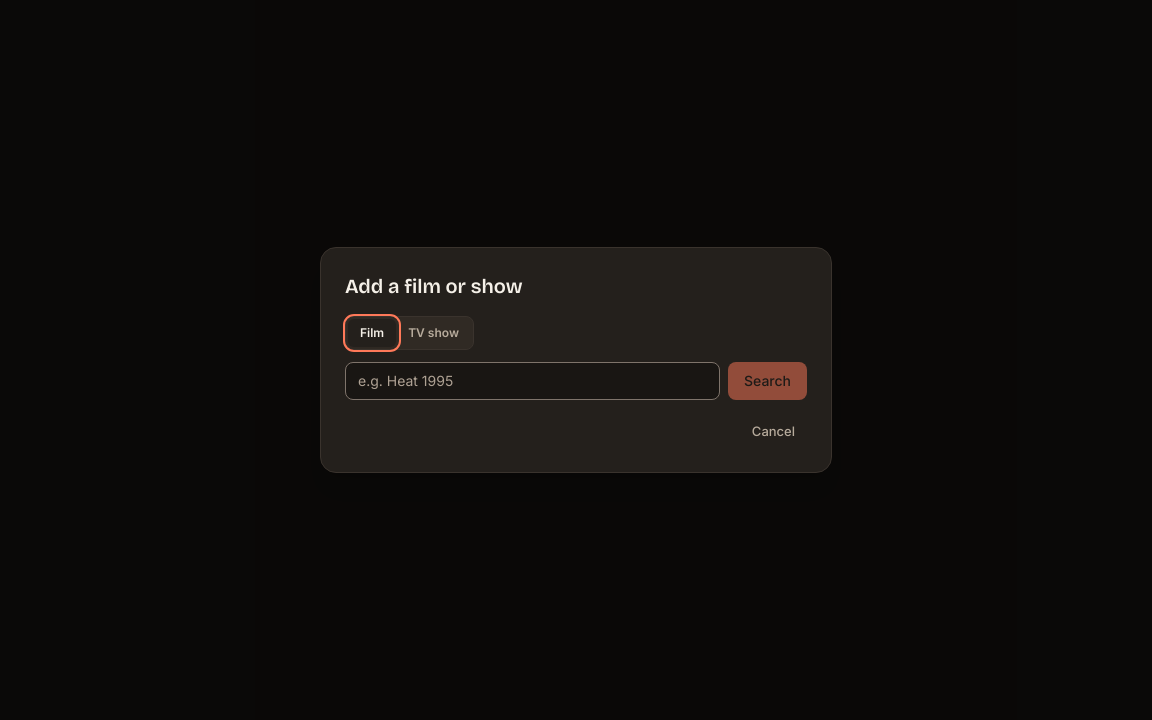
it: AddTitleModal › refuses a future watch date without a request
In the field named "Title": (532, 381) top-left (345, 362), bottom-right (720, 400), type "Heat"
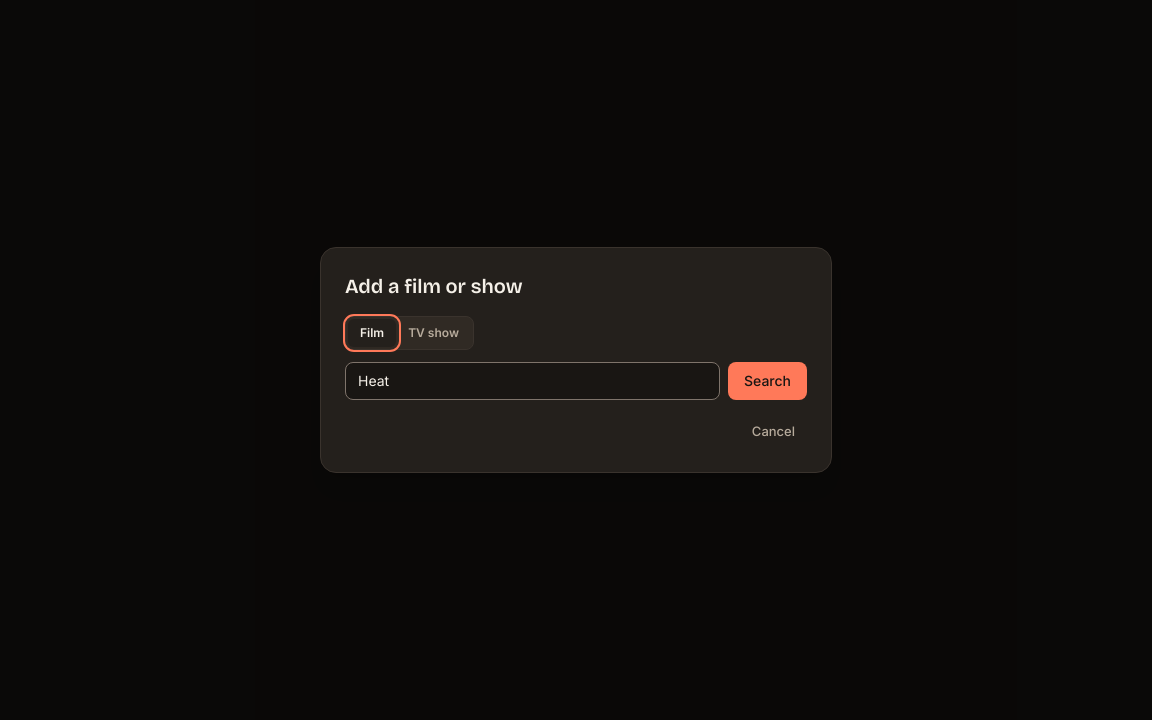
Click the button "Search": (768, 381) top-left (728, 362), bottom-right (807, 400)
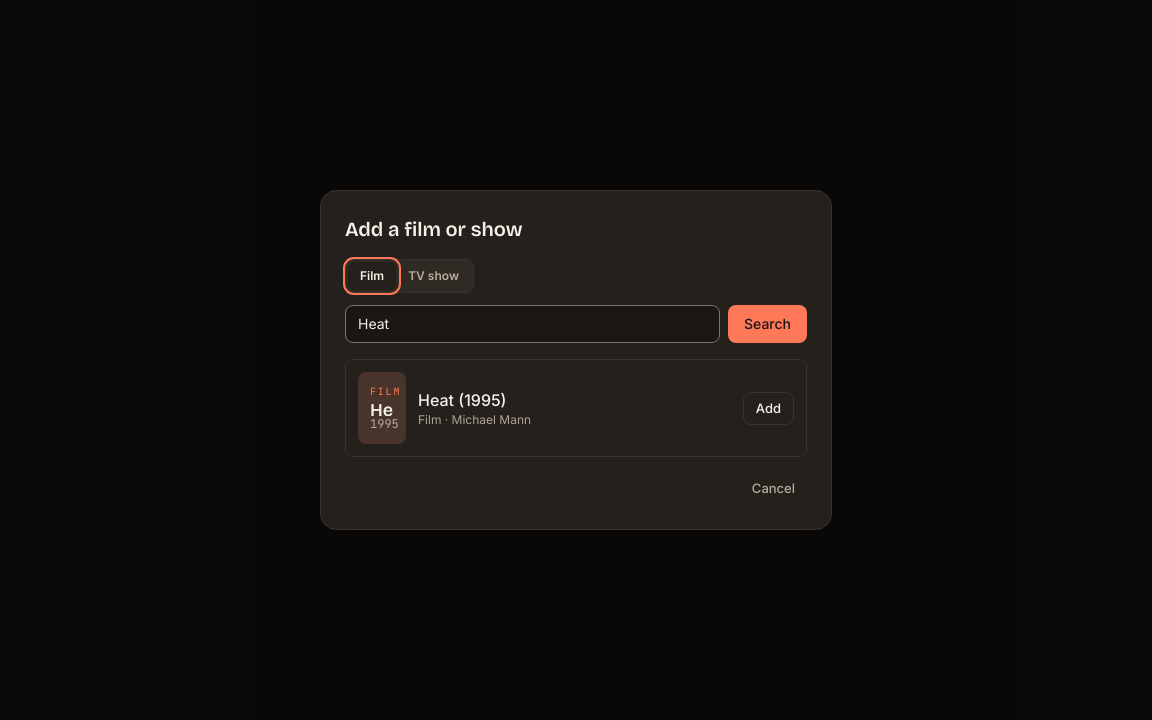
Click the button with aria-label "Add: Heat (1995)": (768, 408) top-left (743, 392), bottom-right (794, 425)
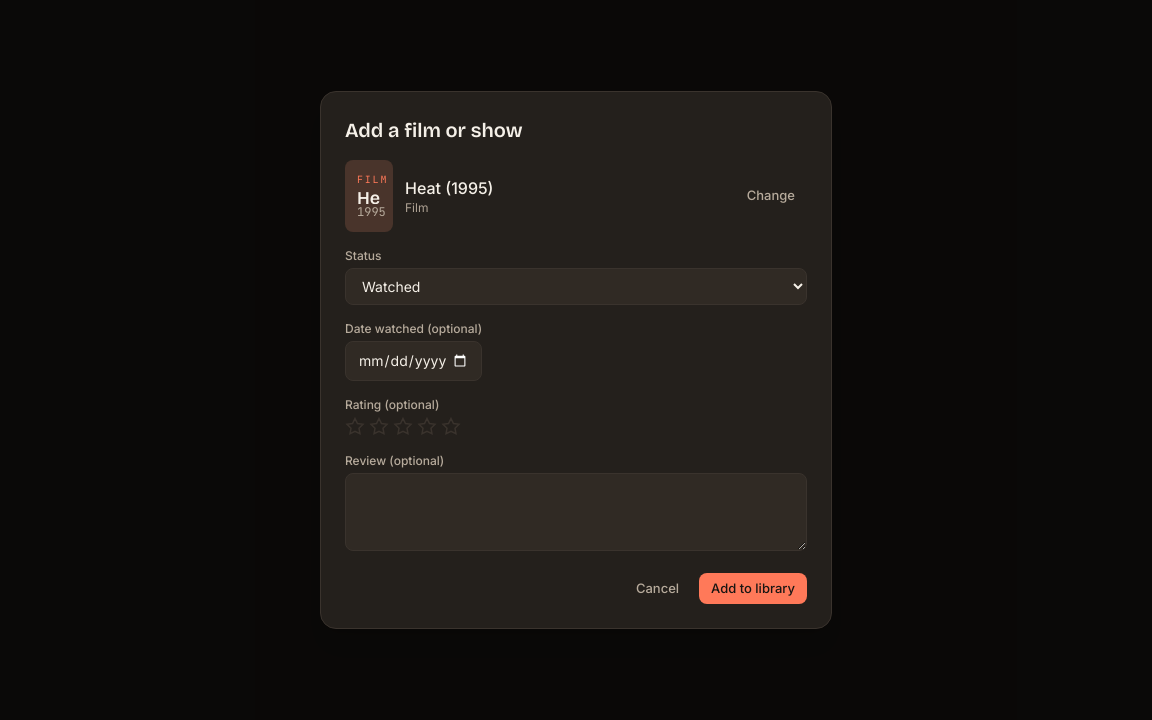
In the date field labelled "Date watched (optional)": (414, 361) top-left (345, 341), bottom-right (482, 381), type "2999-01-01"
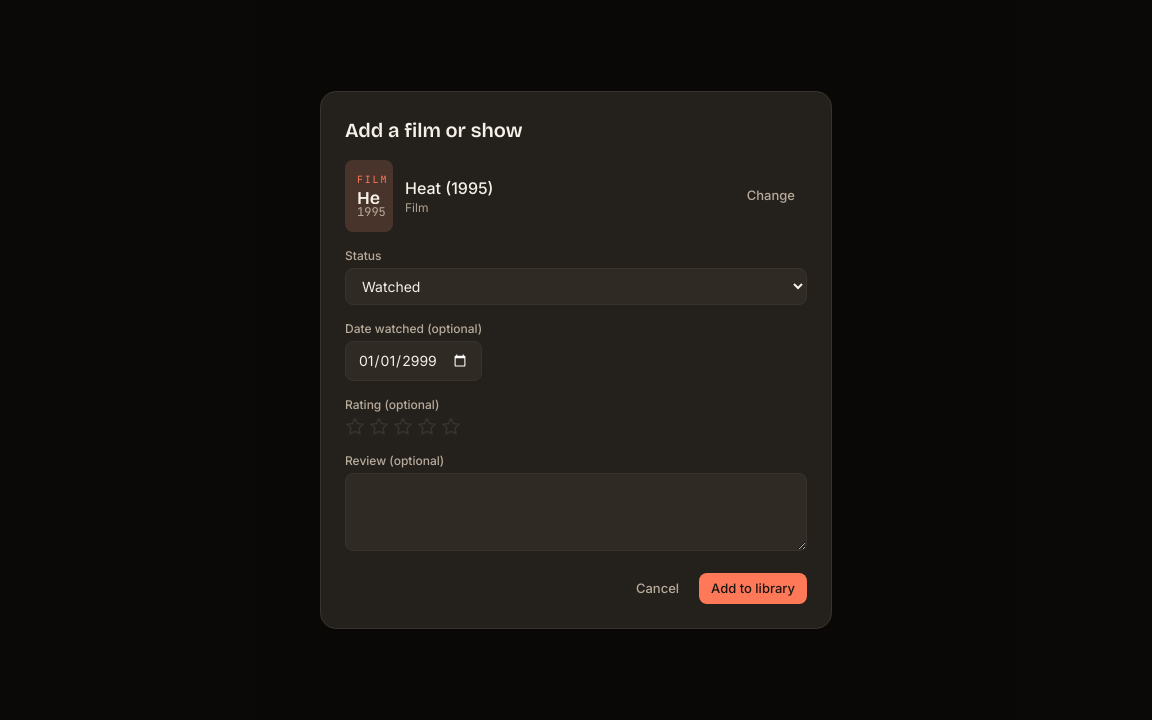
Click the button "Add to library": (753, 589) top-left (699, 573), bottom-right (807, 604)
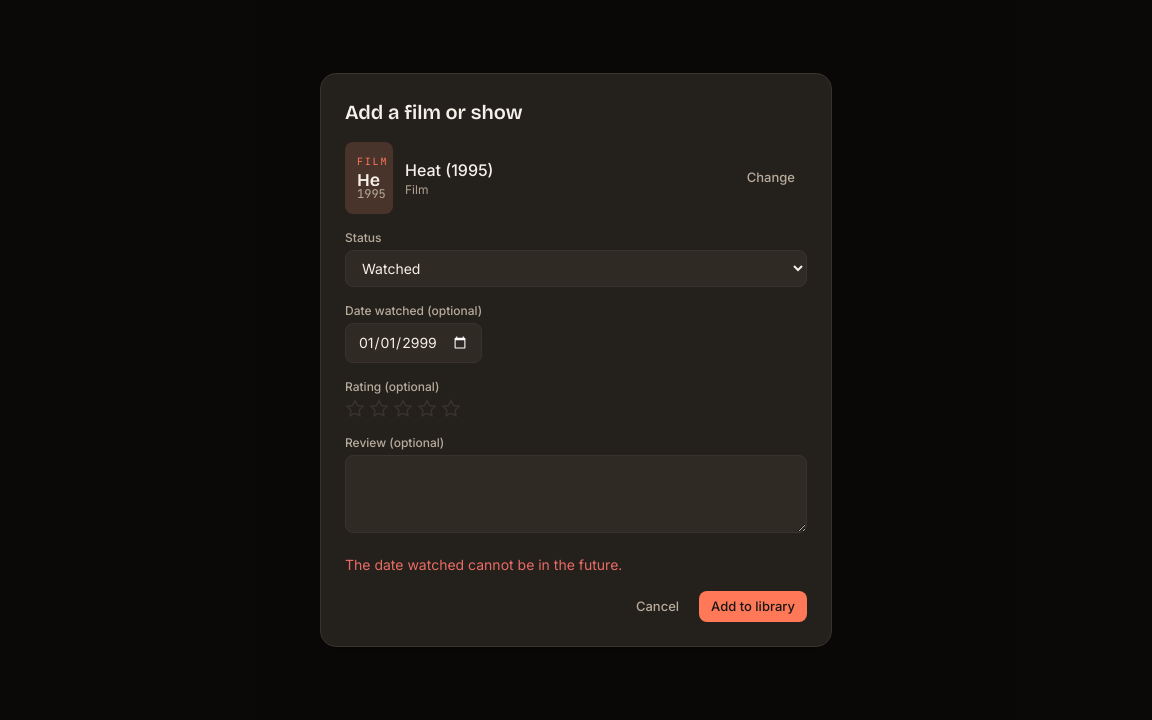
Now the message reads "The date watched cannot be in the future.", box top-left (345, 556), bottom-right (622, 573)
